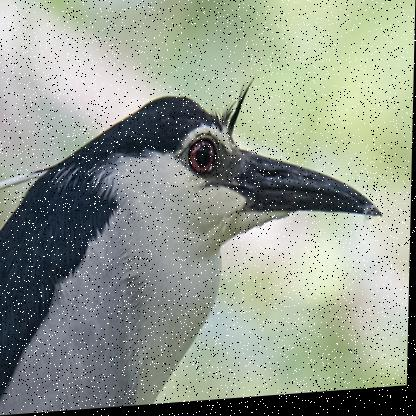Burung: (0, 77, 387, 415)
